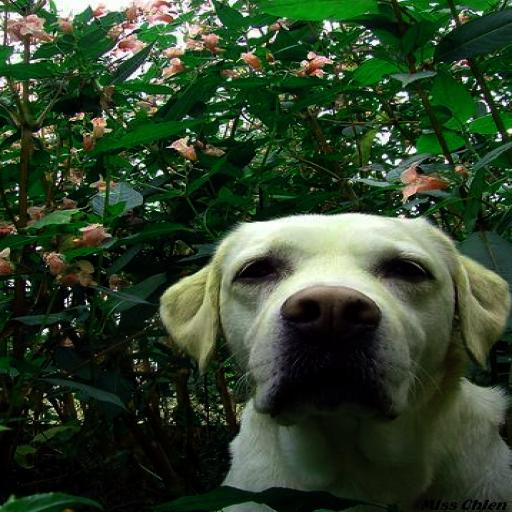dog_face: (187, 217, 484, 404)
